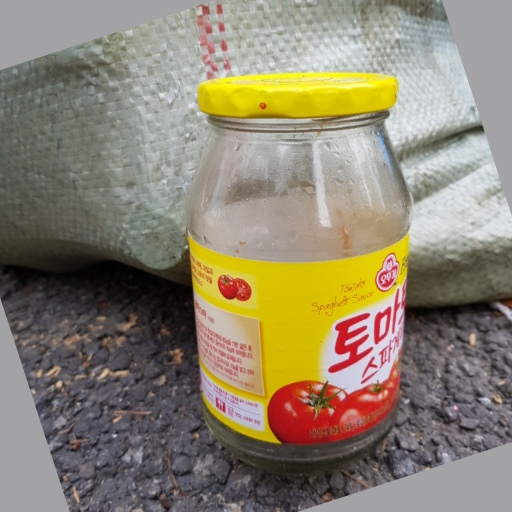Glass_5: (183, 64, 415, 474)
